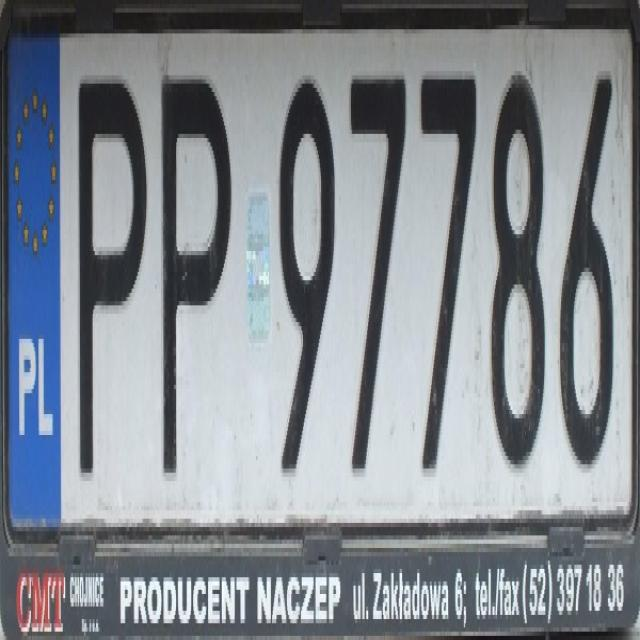pl_license_plate: (6, 34, 632, 506)
